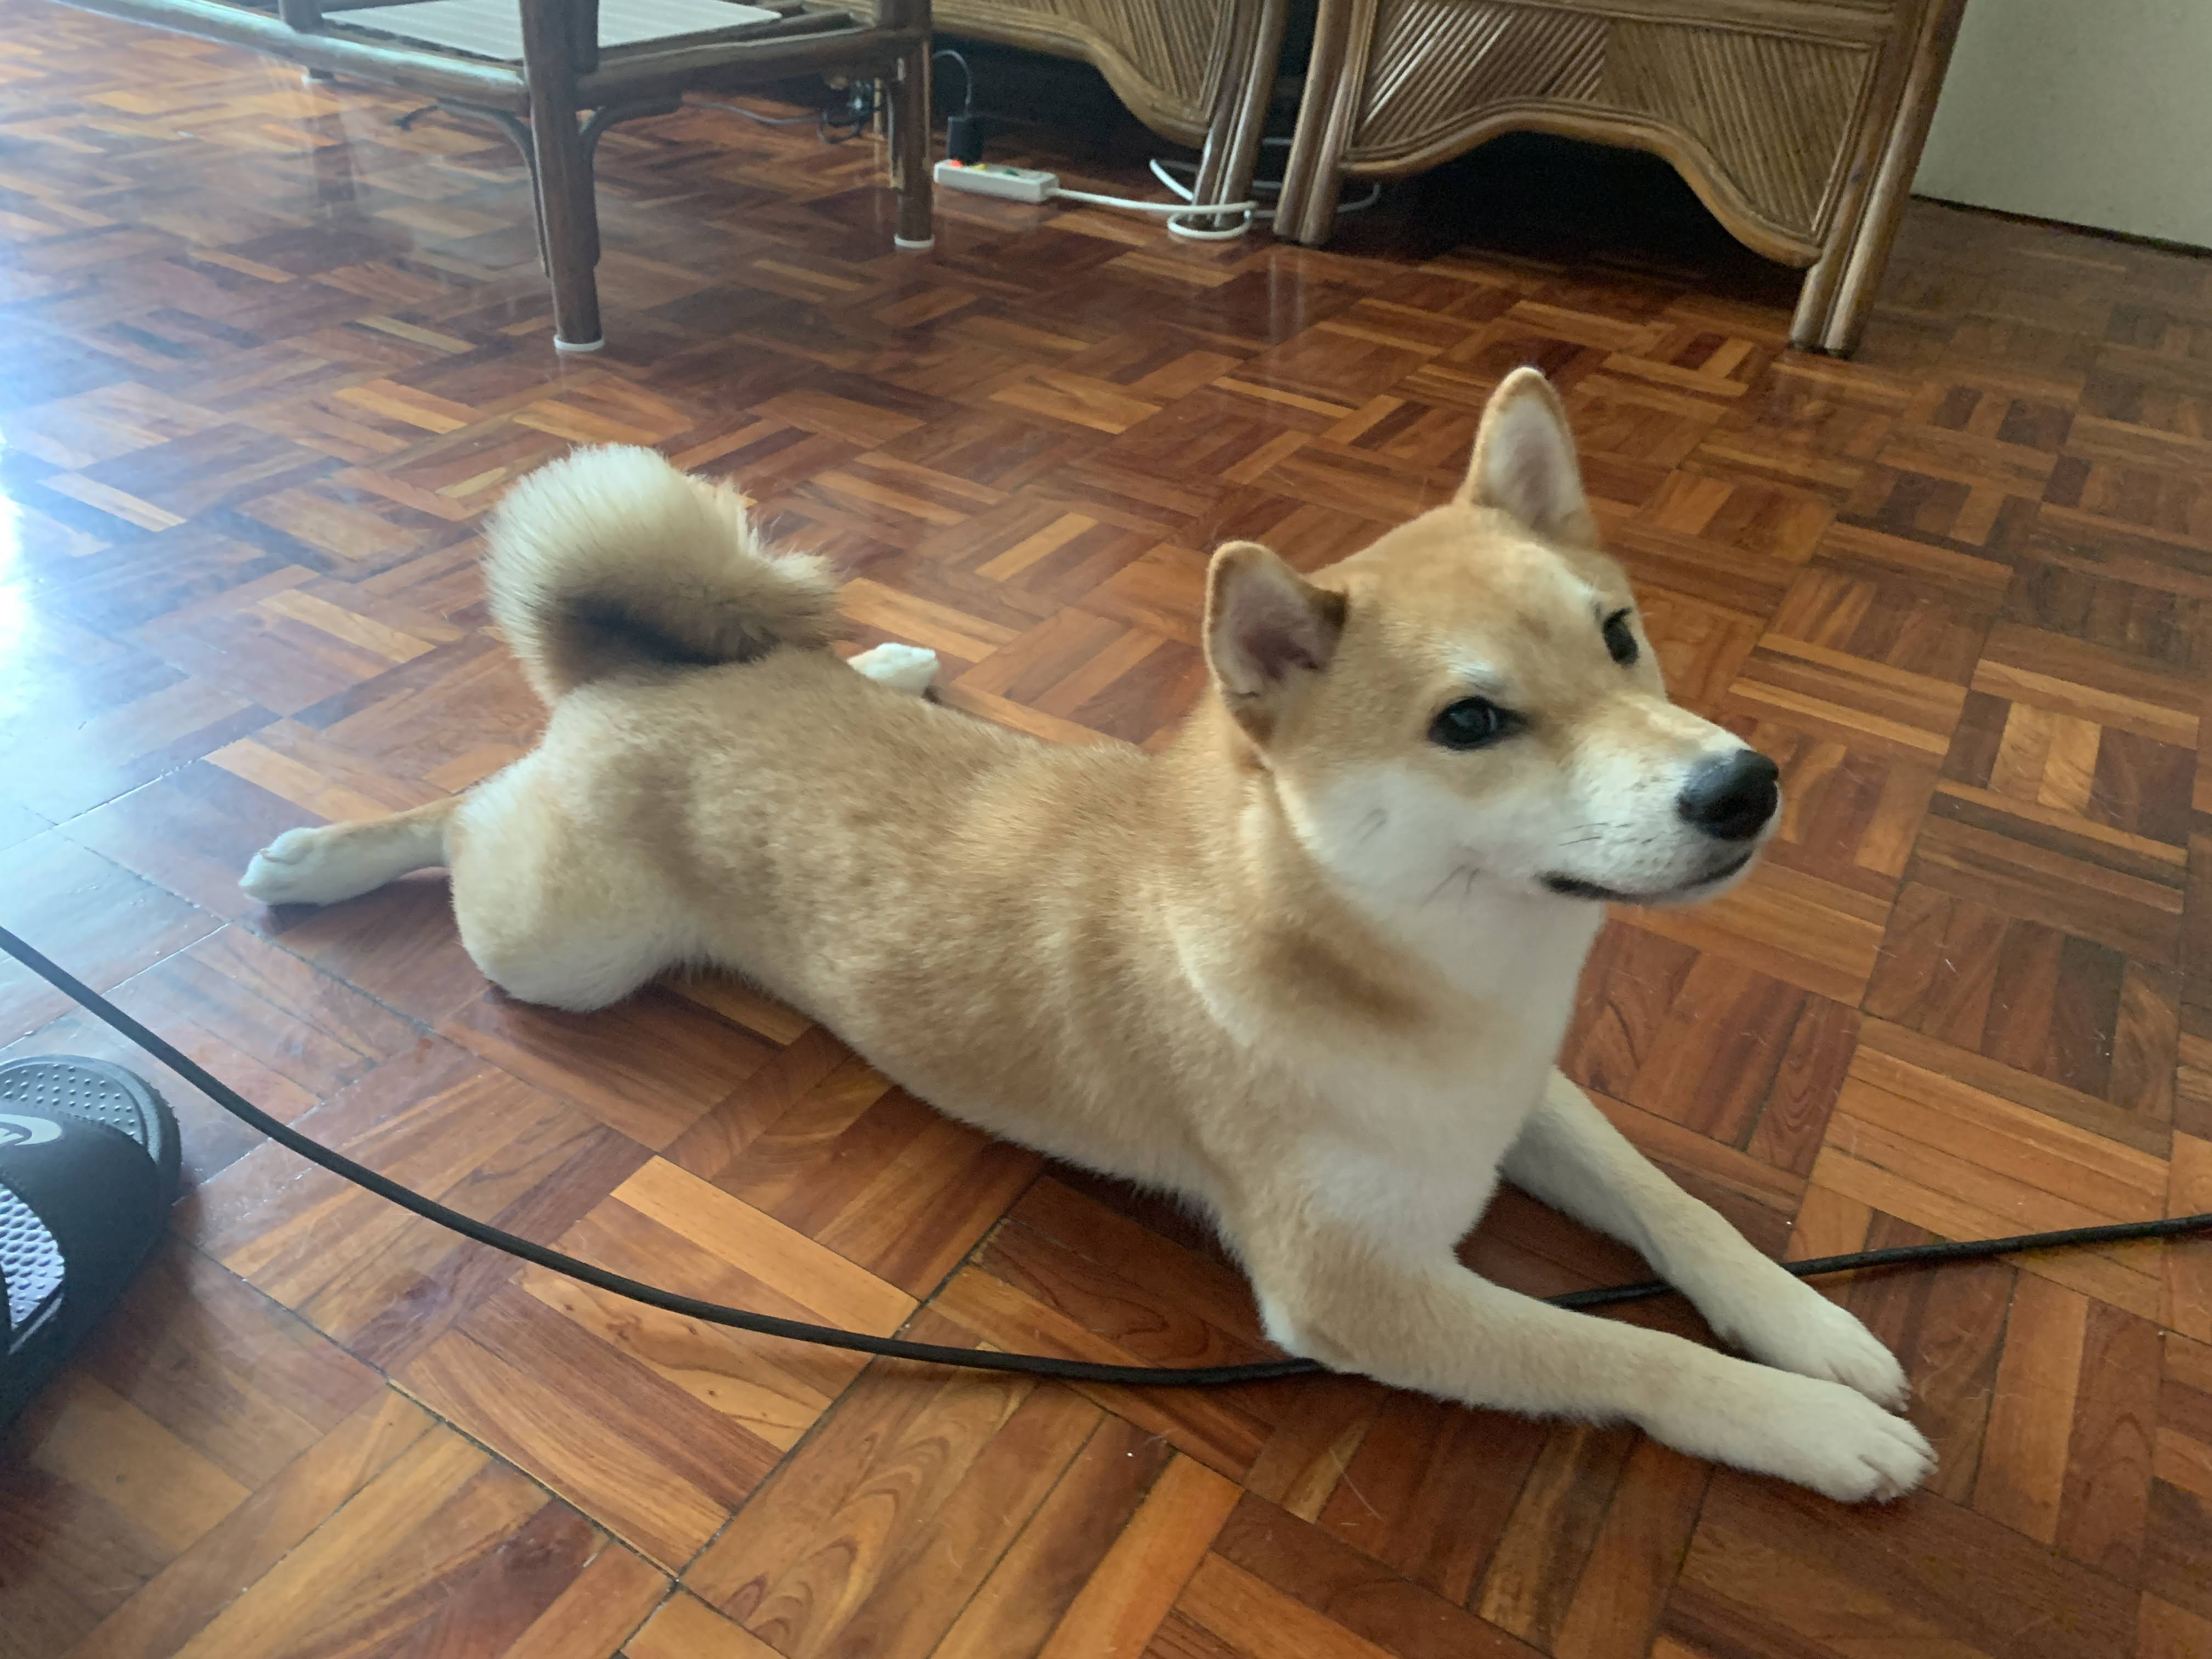Get down: (160, 369, 2033, 1485)
